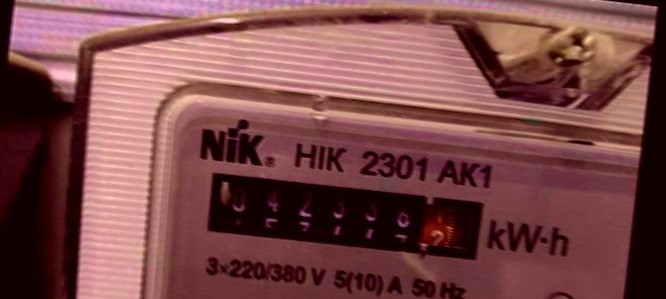0: (228, 186, 248, 215)
1: (432, 203, 446, 226)
2: (296, 190, 316, 220), (427, 229, 445, 248)
3: (360, 194, 380, 226), (328, 192, 347, 222)
4: (263, 185, 283, 215)
6: (394, 200, 414, 232)
screen: (193, 159, 497, 274)
